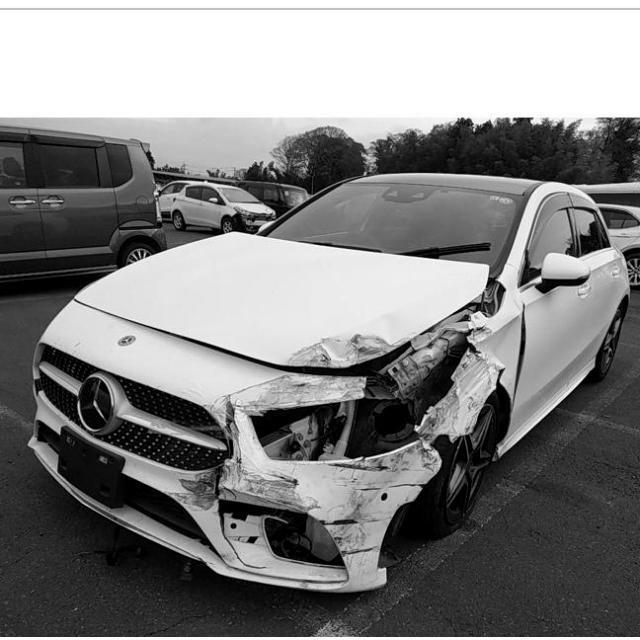Headlight-damage: (252, 378, 434, 473)
bonnet-dent: (253, 309, 445, 374)
fender-dent: (440, 293, 500, 451)
front-bumper-dent: (185, 462, 431, 578)
